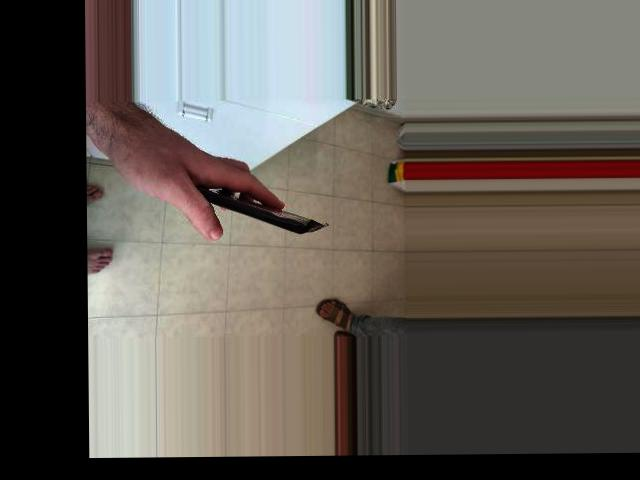chocolate: (174, 159, 330, 249)
